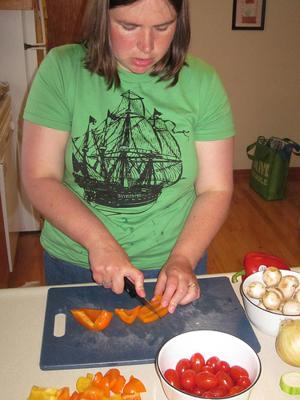person: (20, 3, 236, 314)
